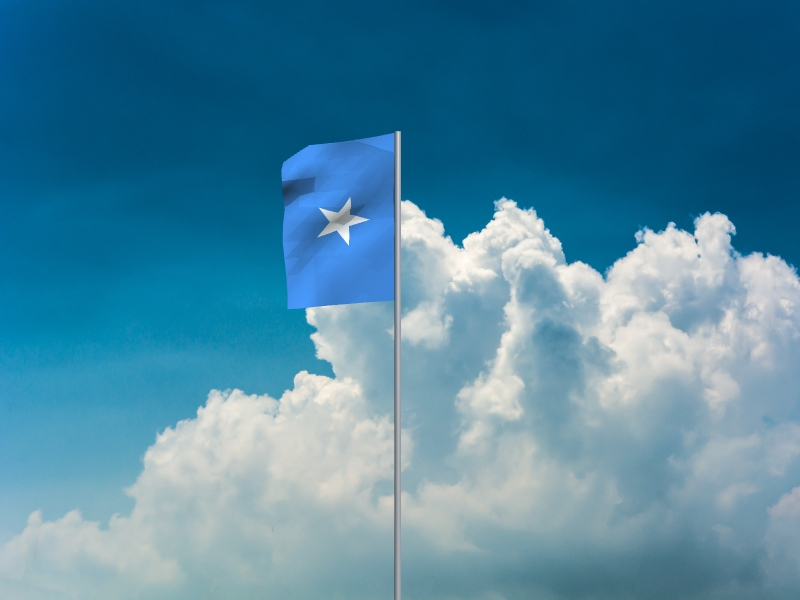so: (281, 134, 394, 311)
